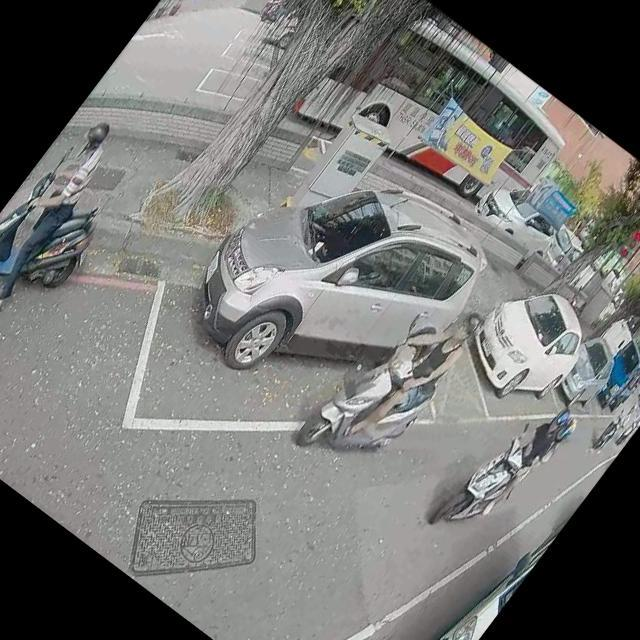person: (328, 280, 488, 464), (0, 112, 131, 324), (469, 394, 578, 524), (482, 401, 581, 518), (598, 402, 640, 453), (265, 0, 293, 18), (627, 405, 640, 431)
